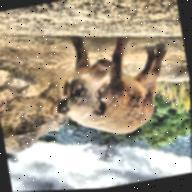boar: (41, 15, 183, 159)
